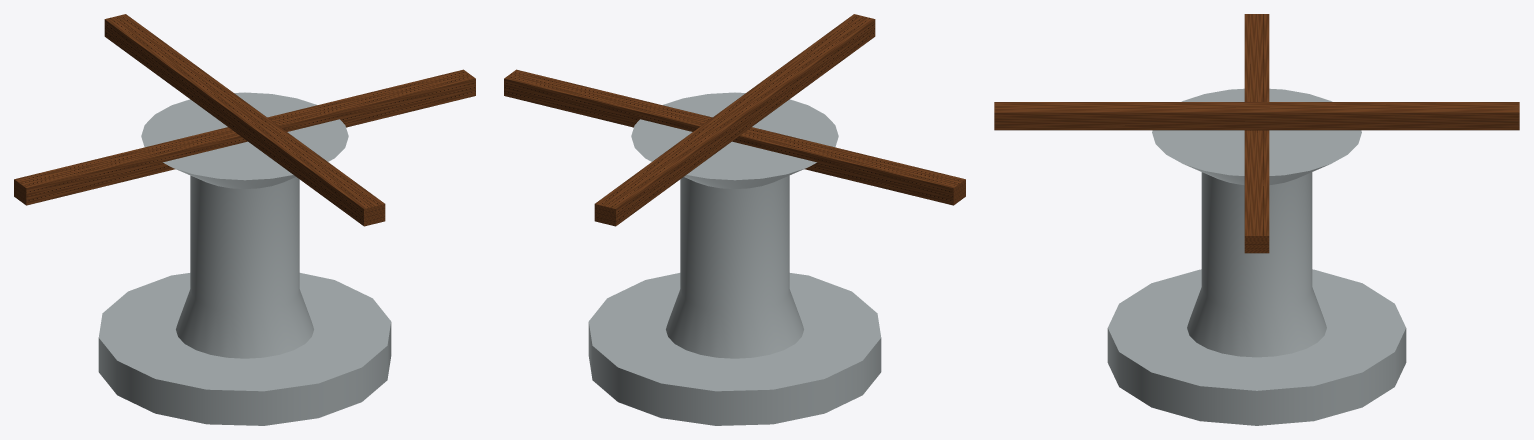
The model's file is flooded-and-coastal-survival-manual-capstan-d1ec9635__20060.glb.
The picture shows the model from 3 angles, left to right: view 1: azimuth 30°, elevation 25°; view 2: azimuth 150°, elevation 25°; view 3: azimuth 270°, elevation 25°; orthographic projection.
Visible parts, largest first — view 1: manual-capstan; view 2: manual-capstan; view 3: manual-capstan.
Boxes of the visible parts, box(x1,y1,x2,y2) form: manual-capstan: box(14, 14, 475, 425); manual-capstan: box(504, 14, 965, 425); manual-capstan: box(994, 14, 1519, 425).
Size of the model in its own units: 0.95 by 0.51 by 0.95.
Materials: 2 (1 with a texture image).
